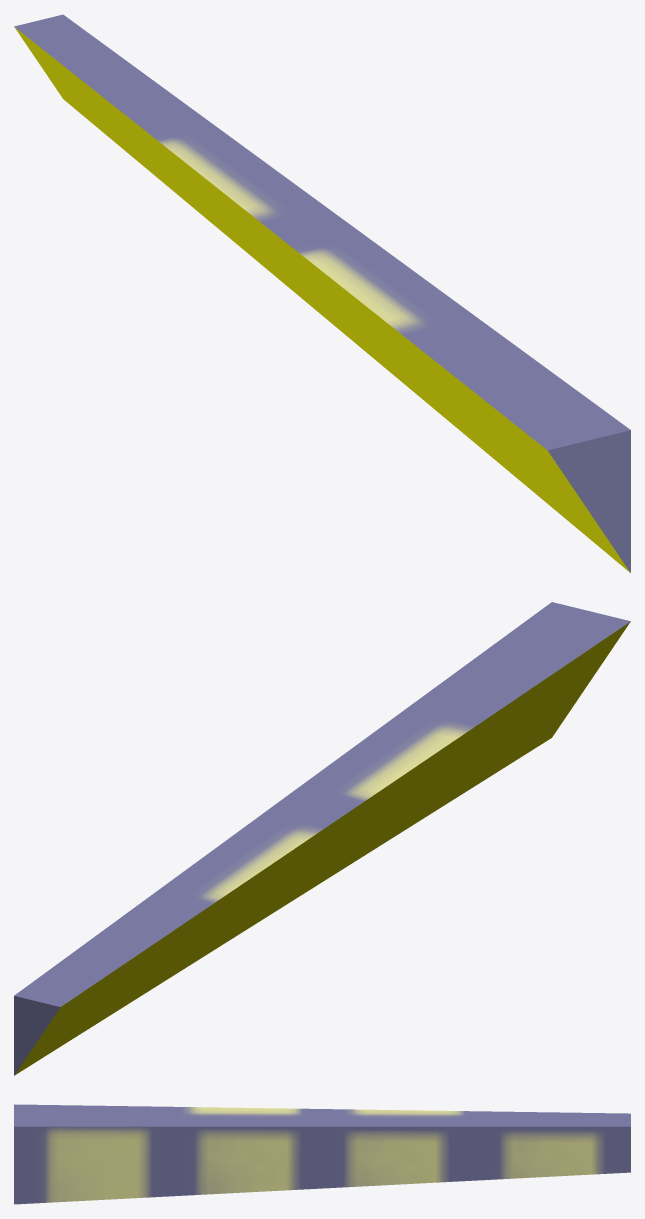
File: CB1Shard6.fbx
3 renders of one model, top to bottom at view 1: azimuth 30°, elevation 25°; view 2: azimuth 150°, elevation 25°; view 3: azimuth 270°, elevation 25°, orthographic. The views are drawn at different scales.
Parts seen in each view (by area): view 1: shard12; view 2: shard12; view 3: shard12.
Part boxes in pixels (left/top/right/bottom): shard12: left=14, top=14, right=630, bottom=572; shard12: left=14, top=602, right=630, bottom=1075; shard12: left=14, top=1104, right=630, bottom=1204.
Size of the model in its own units: 0.00404 by 0.00664 by 0.0476.
Materials: 2 (1 with a texture image).
